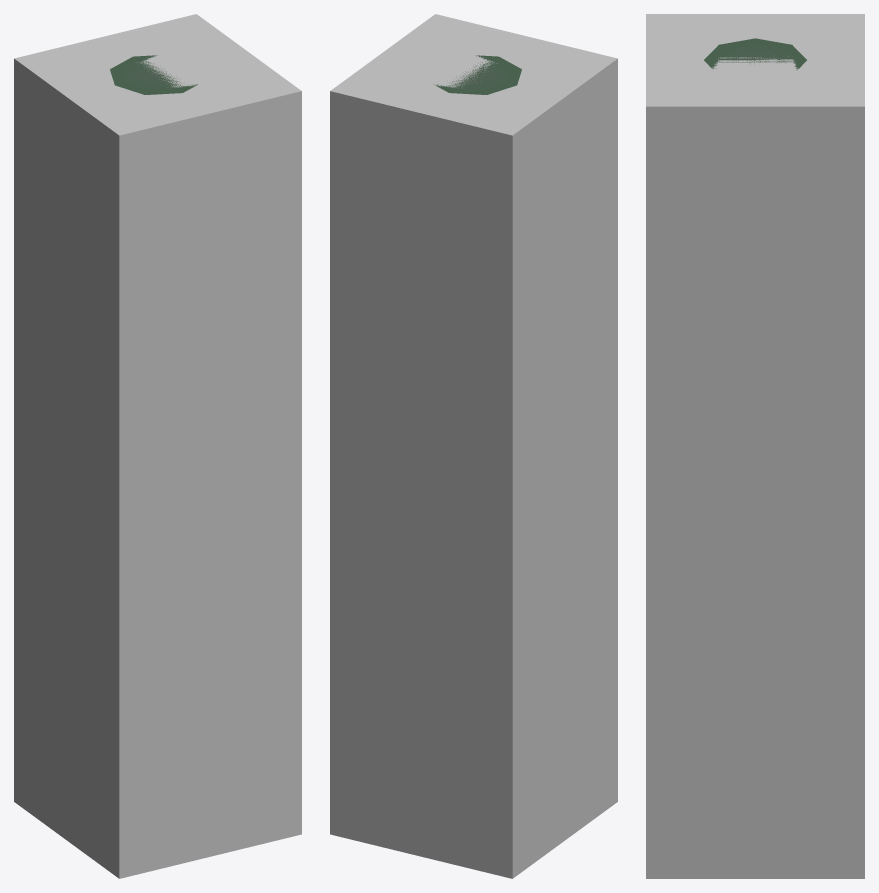
File: SM_Bottle_01.fbx
3 renders of one model, left to right at view 1: azimuth 30°, elevation 25°; view 2: azimuth 150°, elevation 25°; view 3: azimuth 270°, elevation 25°, orthographic. The views are drawn at different scales.
Visible parts, largest first — view 1: SM_Bottle_01_ConvexHulls, SM_Bottle_01; view 2: SM_Bottle_01_ConvexHulls, SM_Bottle_01; view 3: SM_Bottle_01_ConvexHulls, SM_Bottle_01.
Boxes of the visible parts, bbox=[...] form: SM_Bottle_01_ConvexHulls: bbox=[14, 14, 301, 878]; SM_Bottle_01: bbox=[110, 55, 197, 94]; SM_Bottle_01_ConvexHulls: bbox=[330, 14, 617, 878]; SM_Bottle_01: bbox=[435, 55, 521, 94]; SM_Bottle_01_ConvexHulls: bbox=[646, 14, 864, 878]; SM_Bottle_01: bbox=[704, 38, 806, 70].
Size of the model in its own units: 8.82 by 8.82 by 34.35.
Materials: 2 (1 with a texture image).
